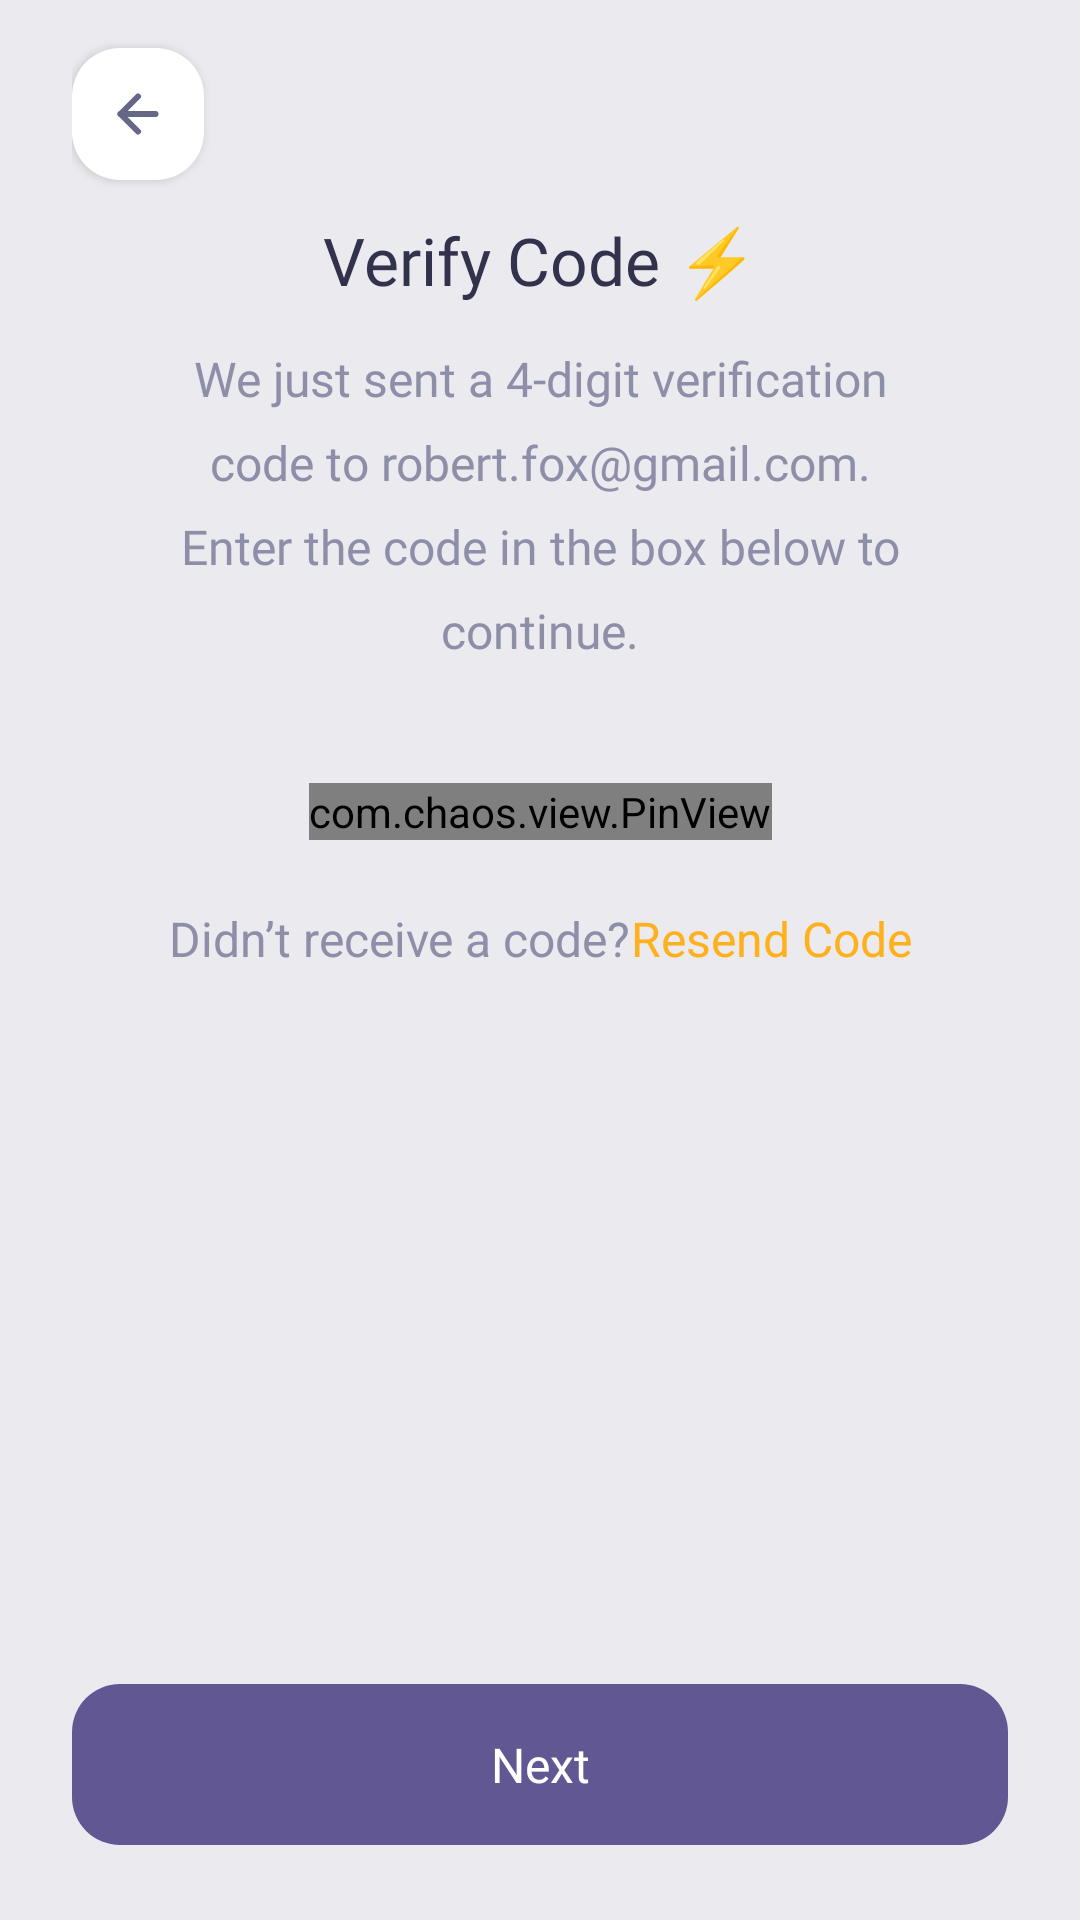

Named icons in this screenshot (1080px x 1920px) and their bounding boxes, (x1, y1, x2, y2):
arrow left: (72, 48, 204, 180)
